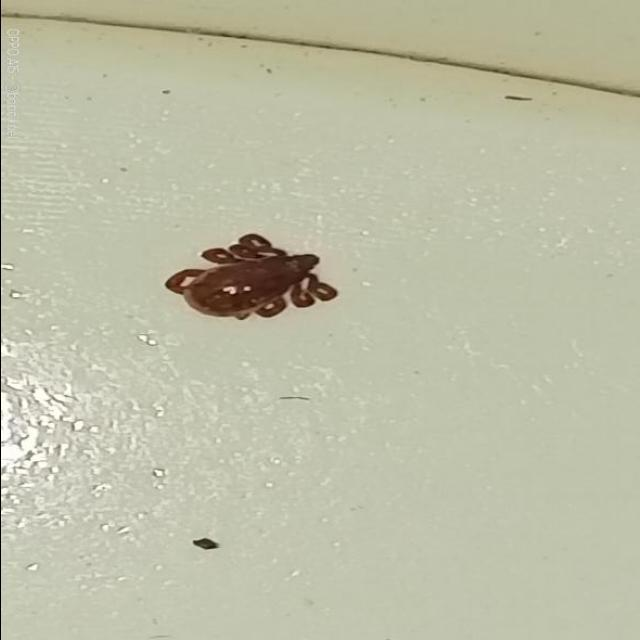Rhipicephalus Sanguineus-M: (163, 235, 337, 323)
